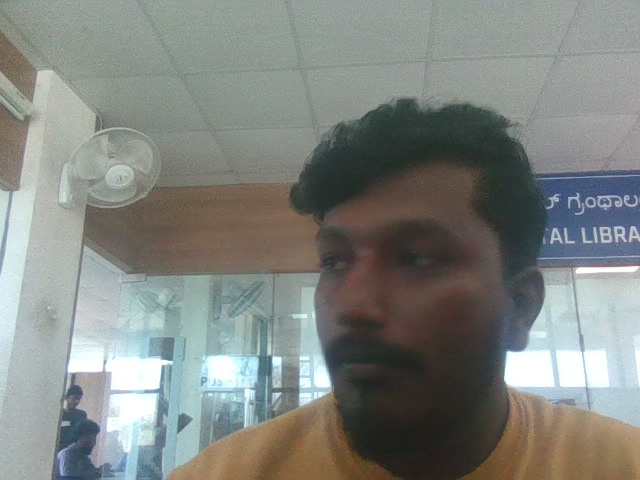real: (287, 70, 549, 442)
